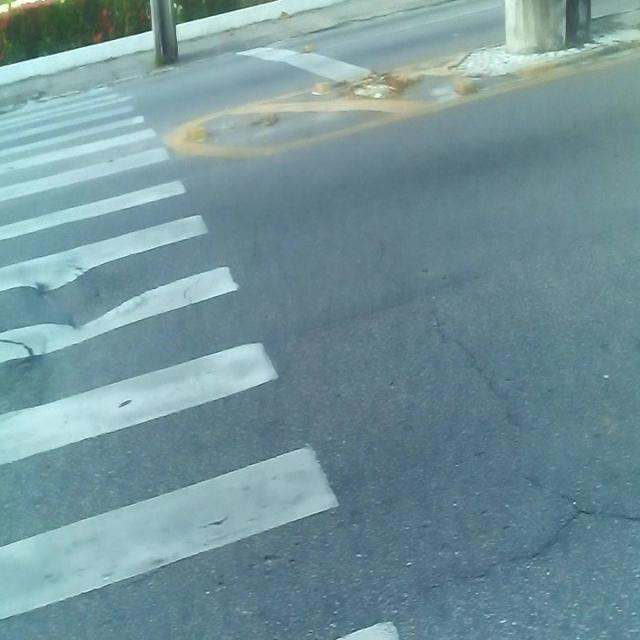crosswalk: (0, 82, 441, 640)
